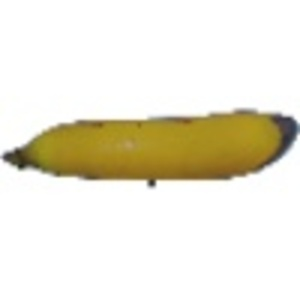banana: (3, 107, 291, 184)
